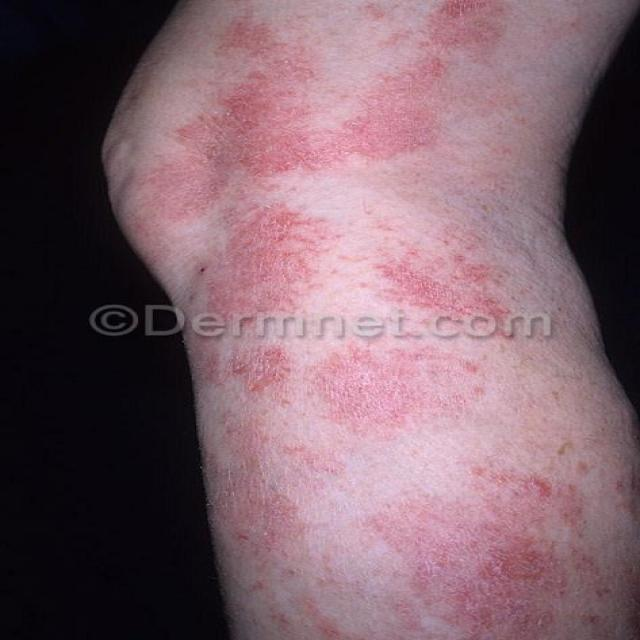Eczema: (152, 0, 575, 637)
